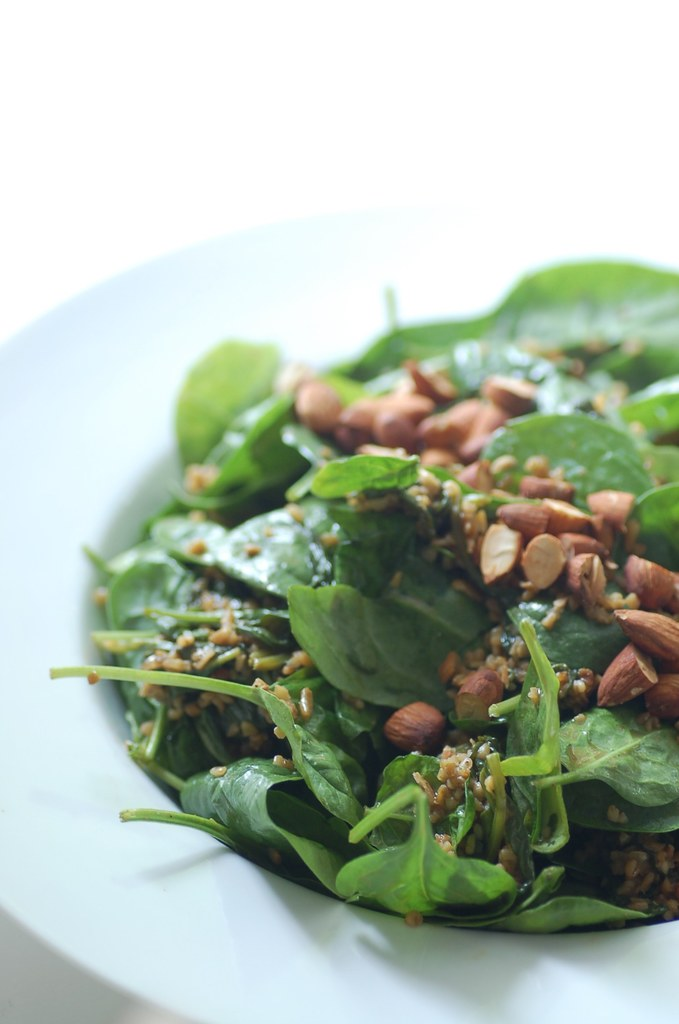salad: (27, 243, 678, 946)
